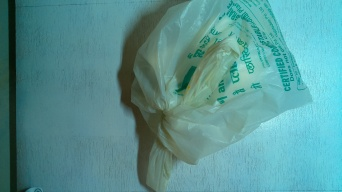f: (122, 1, 316, 163)
